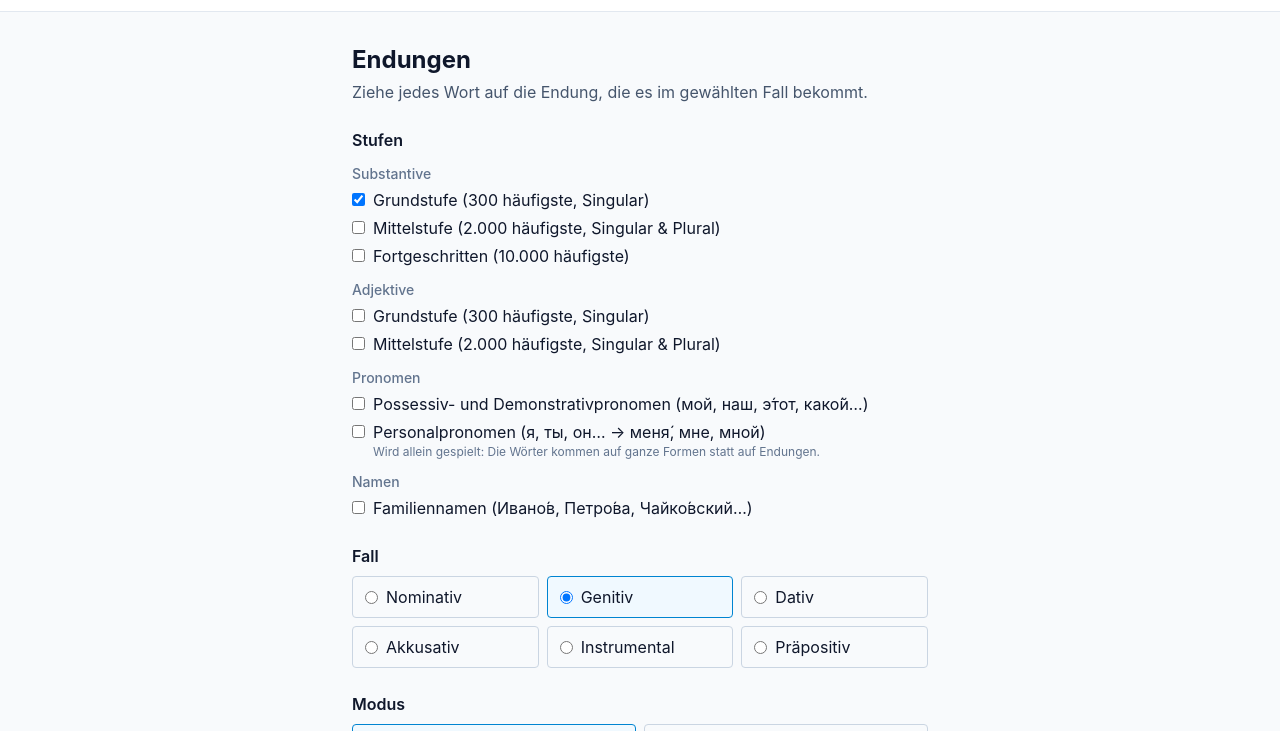
Test: the game speaks German too
Step 1. Click the radio button labelled "Instrumental" → (566, 647), box [560,640,573,654]
(page scrolled)
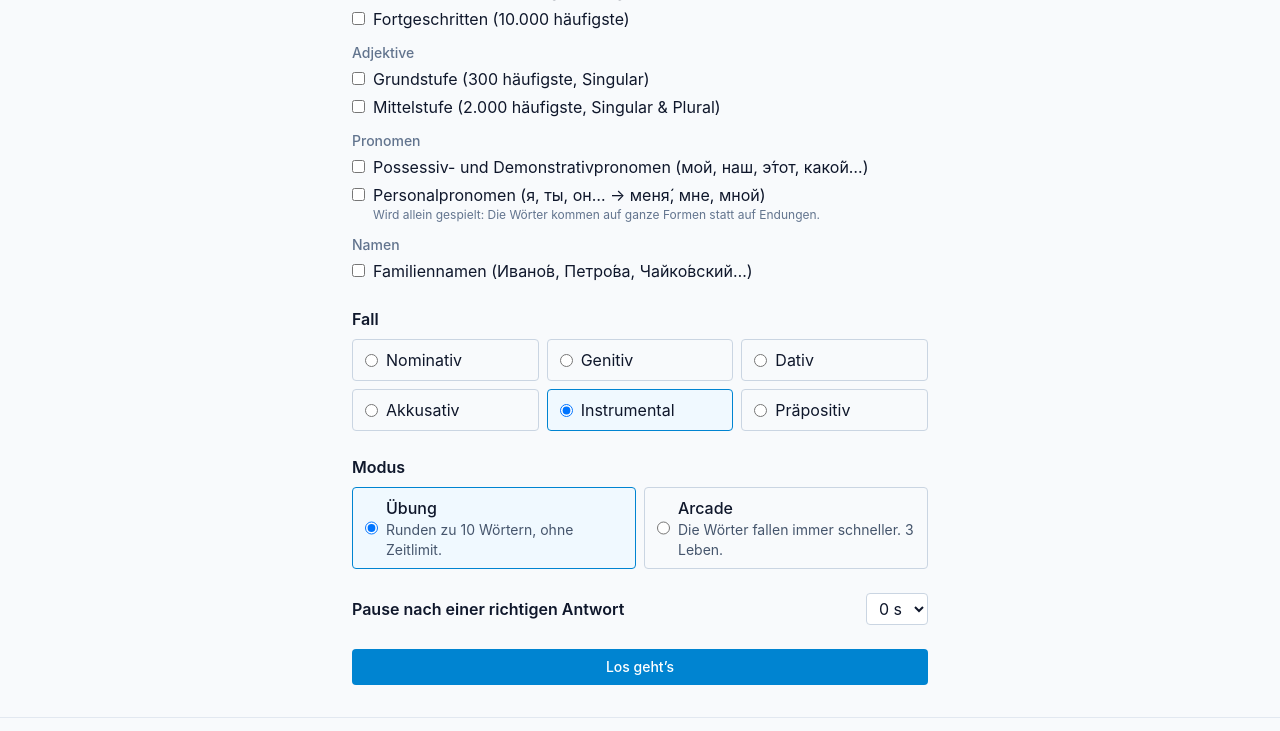
Step 2. Click the button "Los geht’s" → (640, 667), box [352,649,928,685]
(page scrolled)
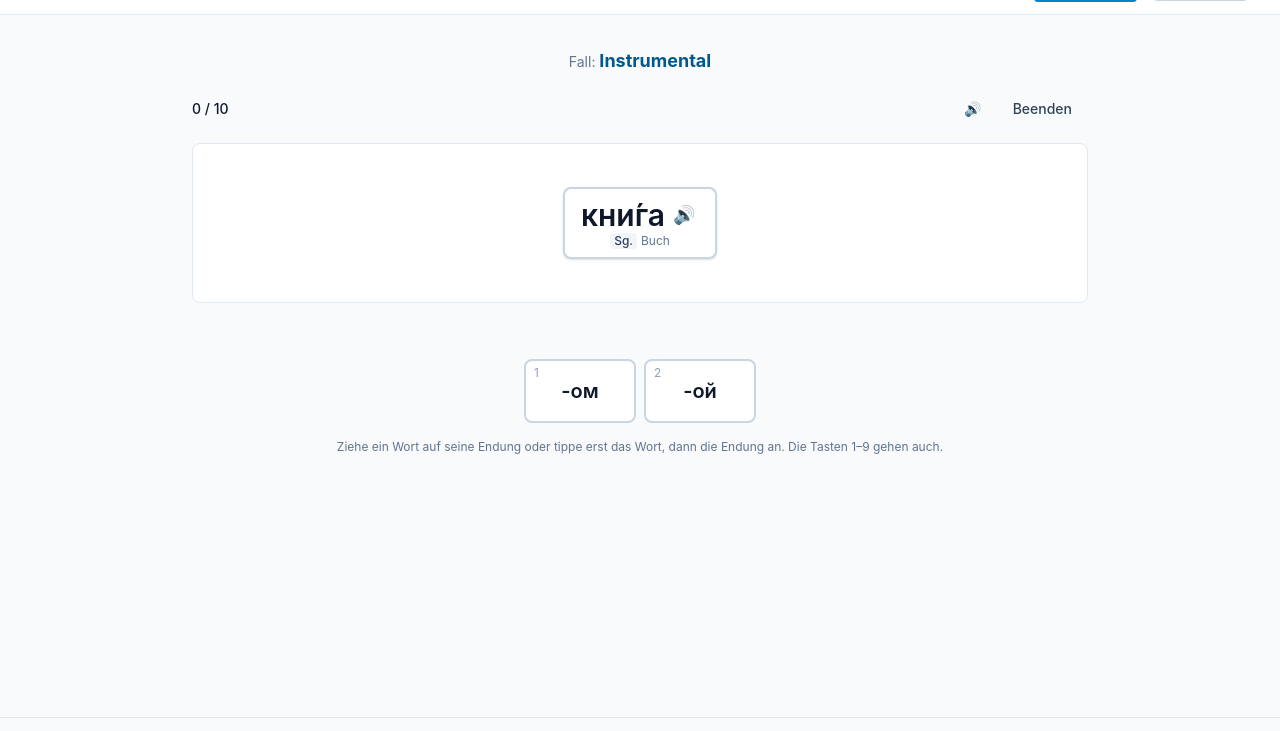
Now the text "Buch" is shown, box [641,233,670,249]
